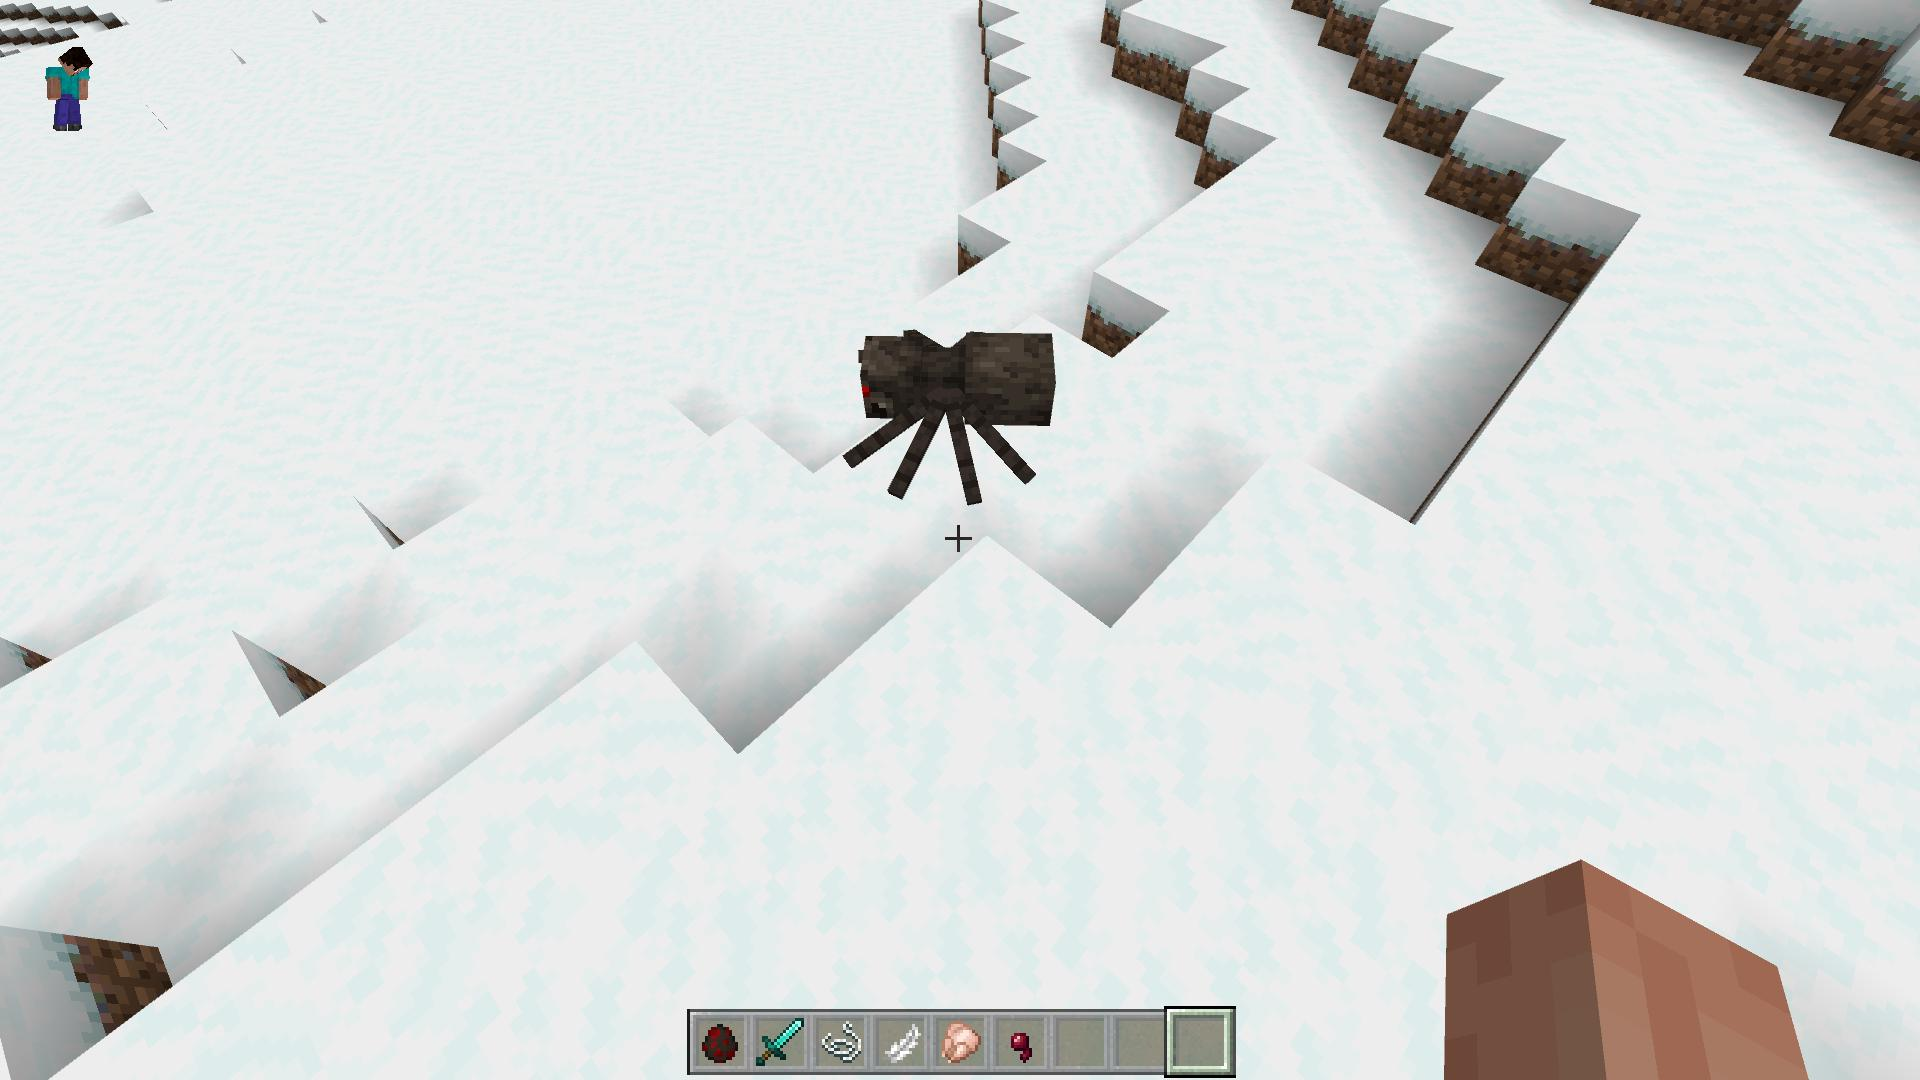spider: (848, 328, 1058, 502)
